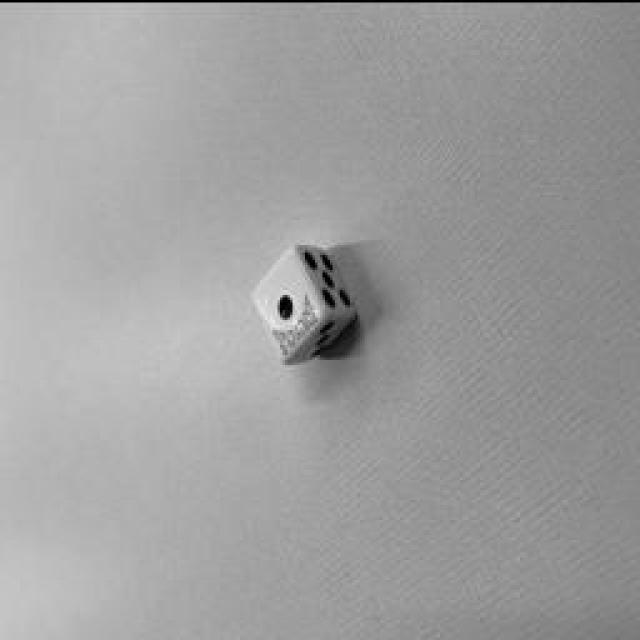dice_1: (254, 245, 326, 360)
